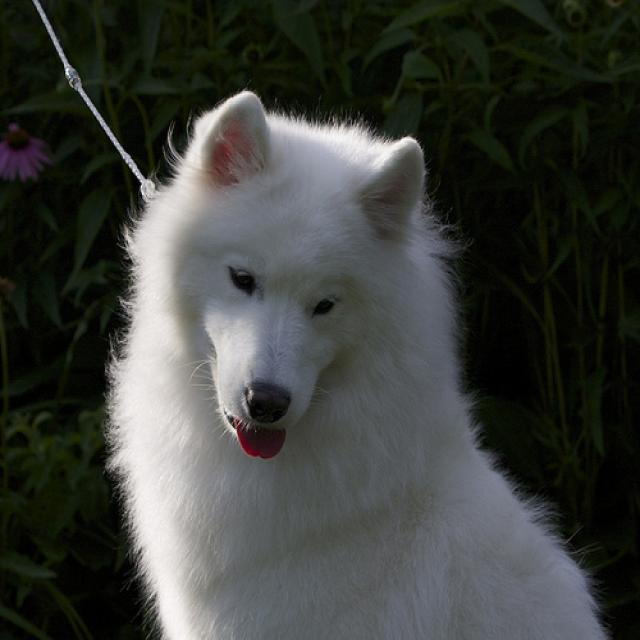dog-samoyed: (100, 81, 621, 637)
